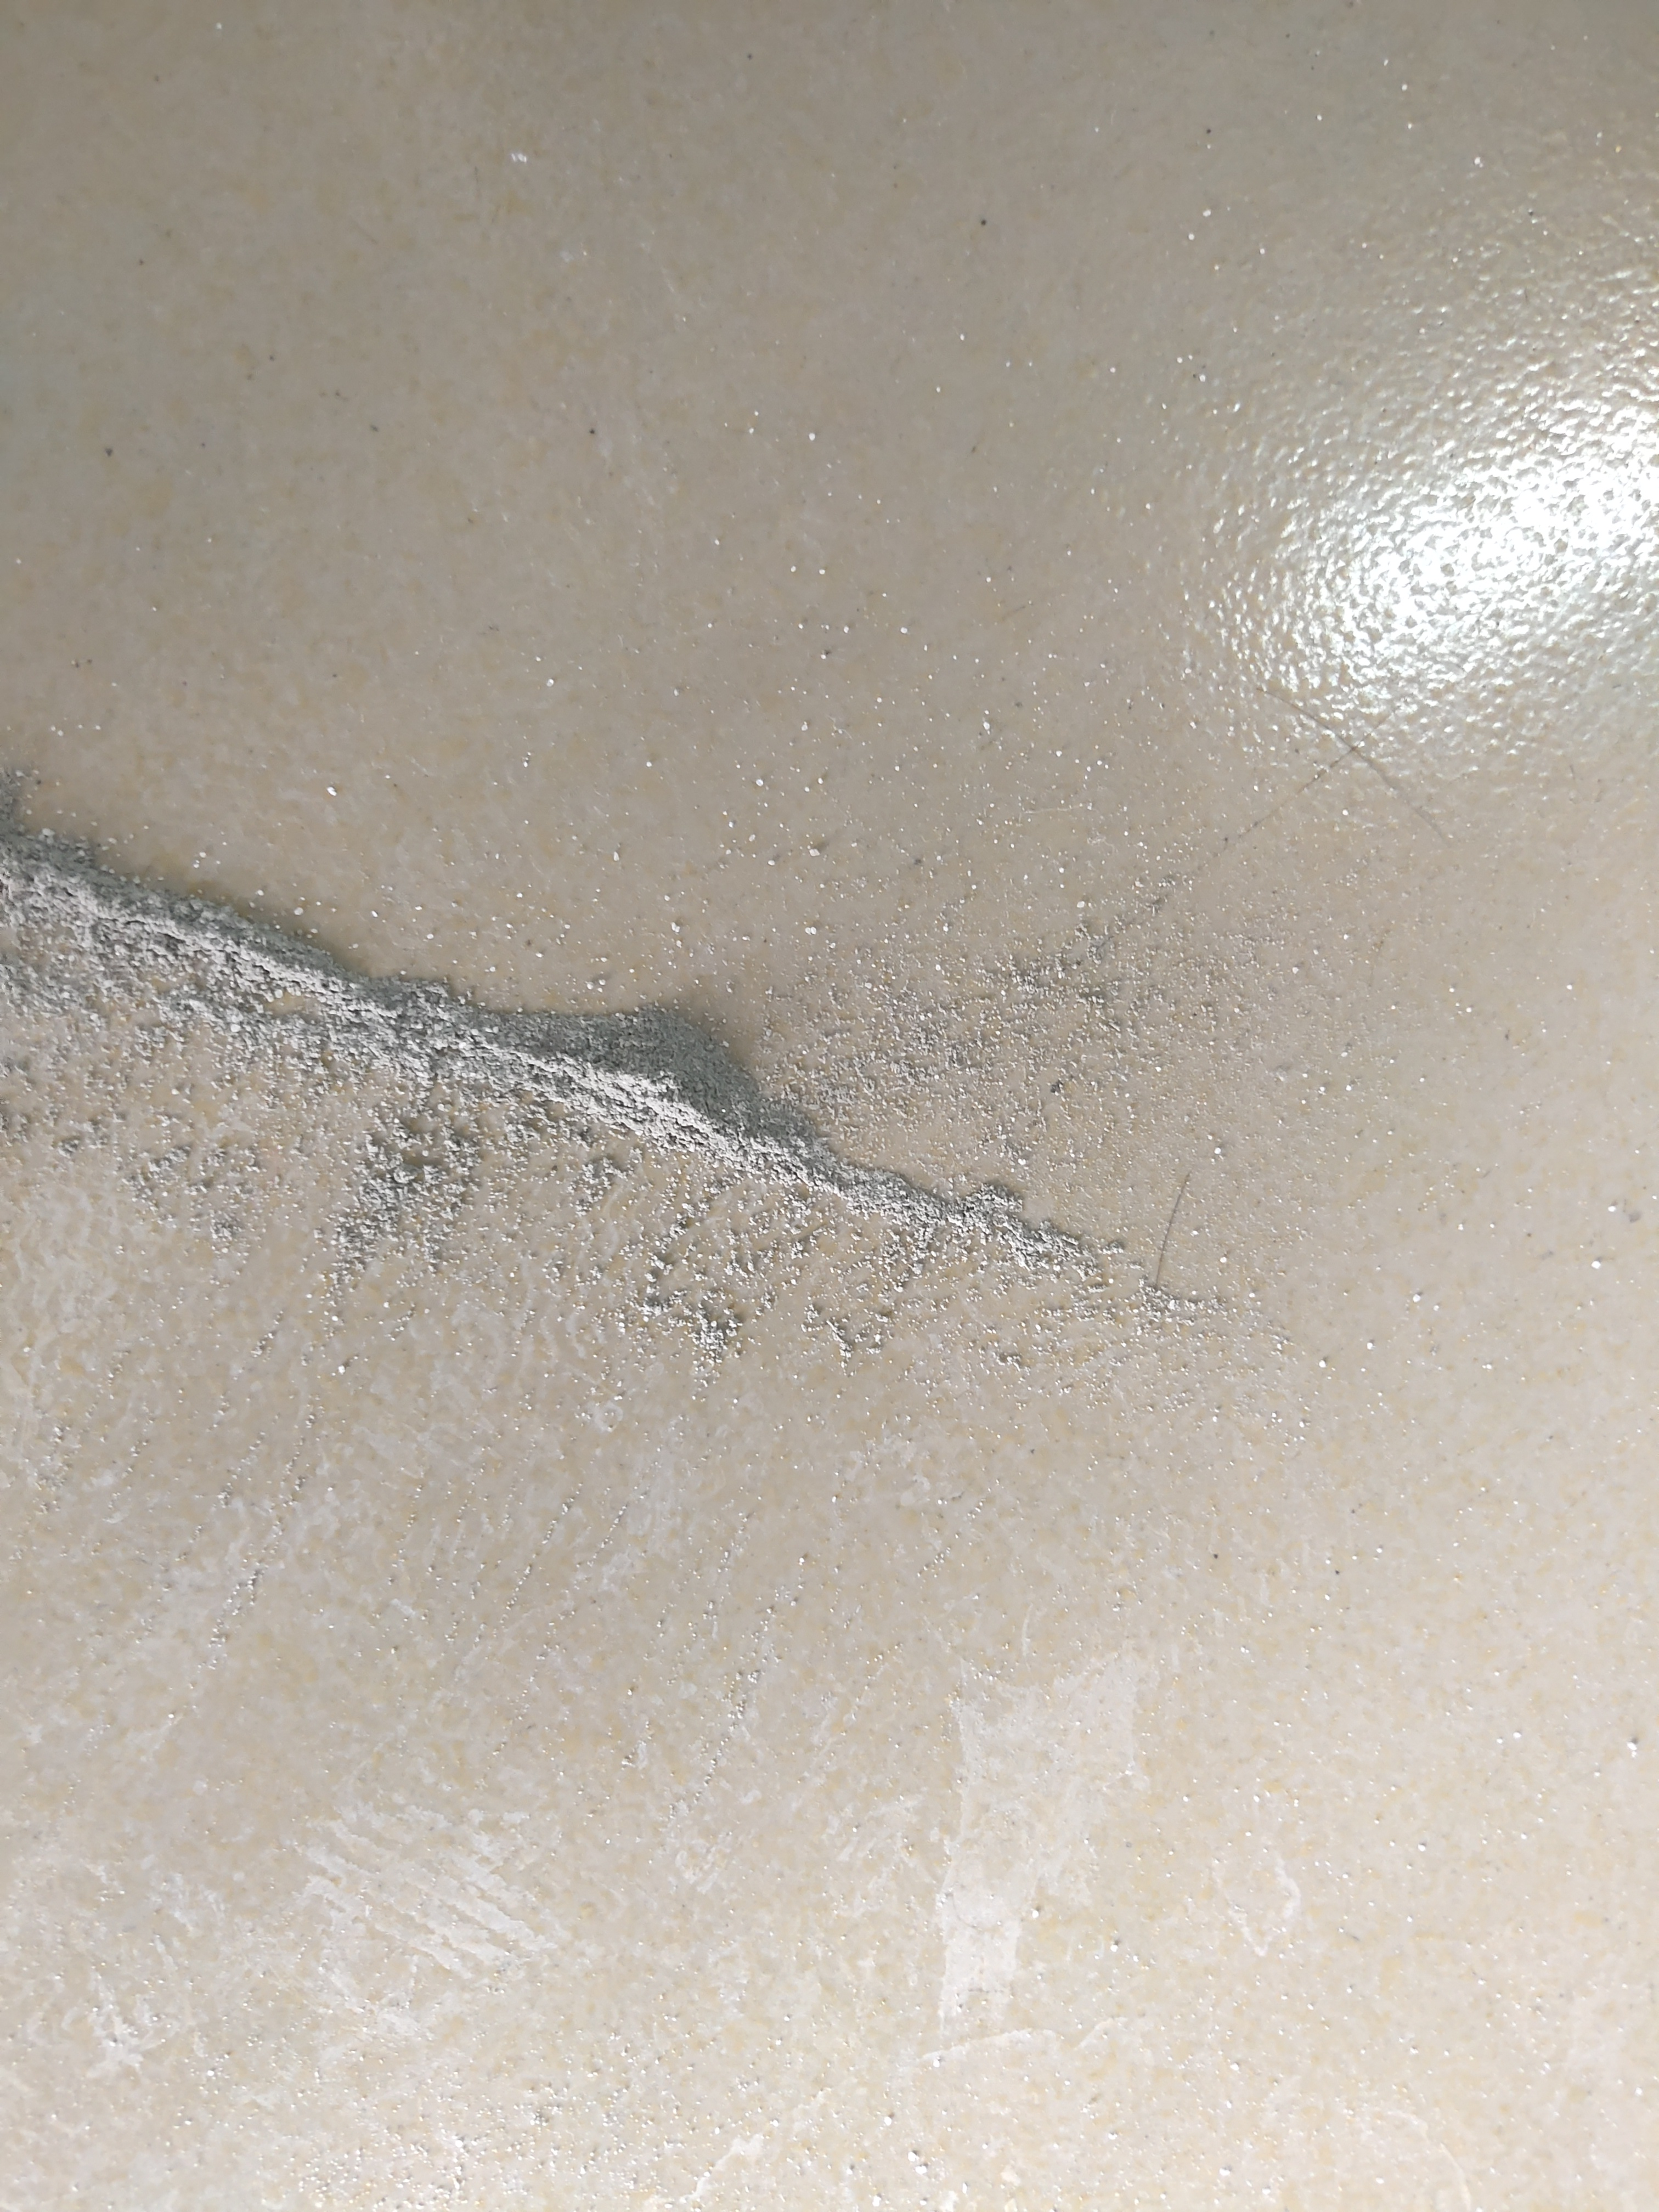ash pile: (12, 841, 1209, 1357)
reflection: (1209, 334, 1659, 740)
